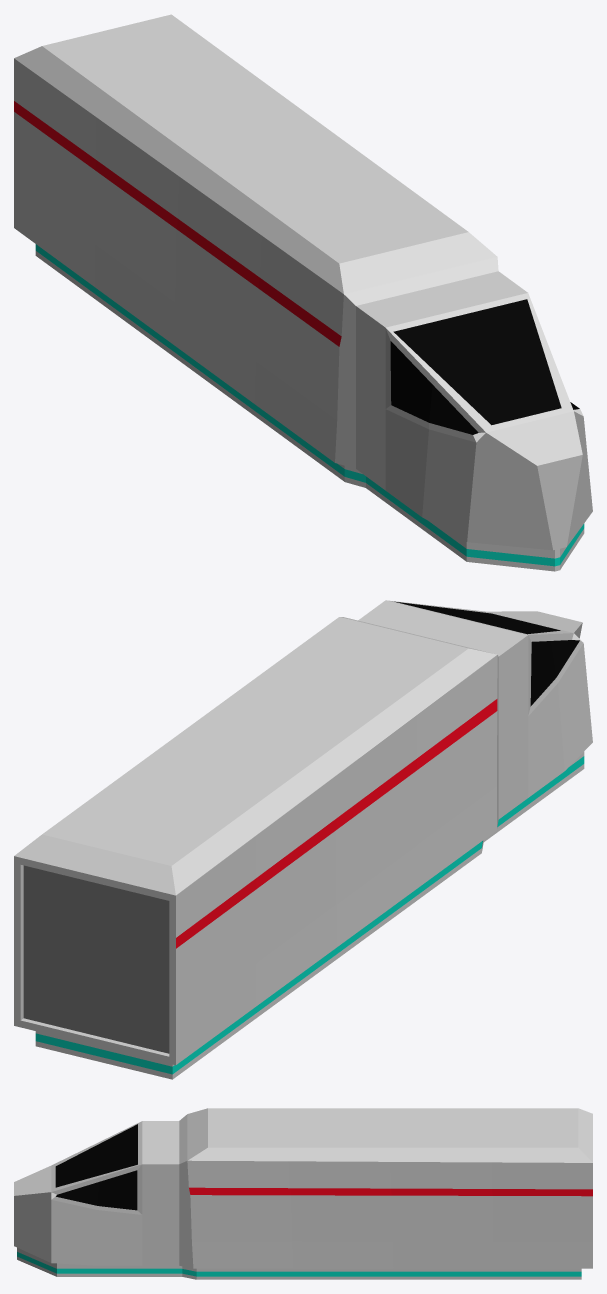
Rendered from Car_CD3.fbx.
3 renders of one model, top to bottom at view 1: azimuth 30°, elevation 25°; view 2: azimuth 150°, elevation 25°; view 3: azimuth 270°, elevation 25°, orthographic. The views are drawn at different scales.
Visible parts, largest first — view 1: Cube; view 2: Cube; view 3: Cube.
Boxes of the visible parts, left/top/right/bottom form: Cube: left=14, top=14, right=592, bottom=571; Cube: left=14, top=600, right=592, bottom=1079; Cube: left=14, top=1108, right=592, bottom=1279.
Size of the model in its own units: 323 by 402 by 1609.
